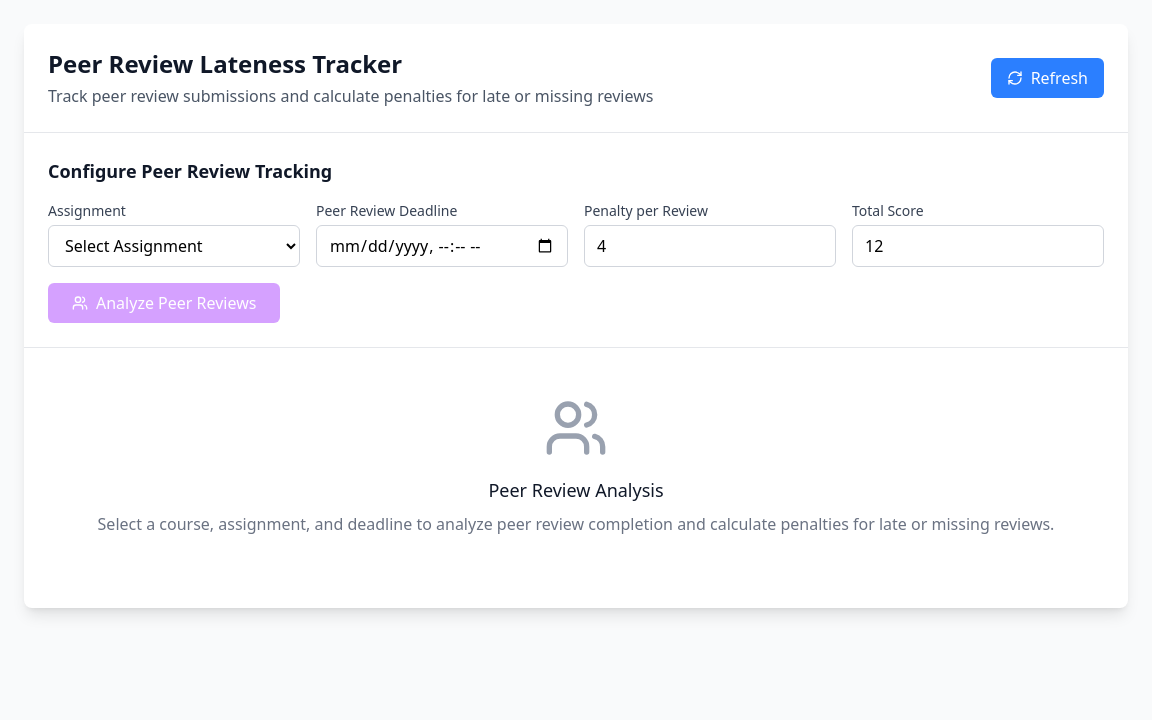
it: PeerReviewTracking › Peer Review Analysis › handles API errors during analysis
Select "Assignment 1" in the dropdown named "Select assignment" at (174, 246), box [48,225,300,267]
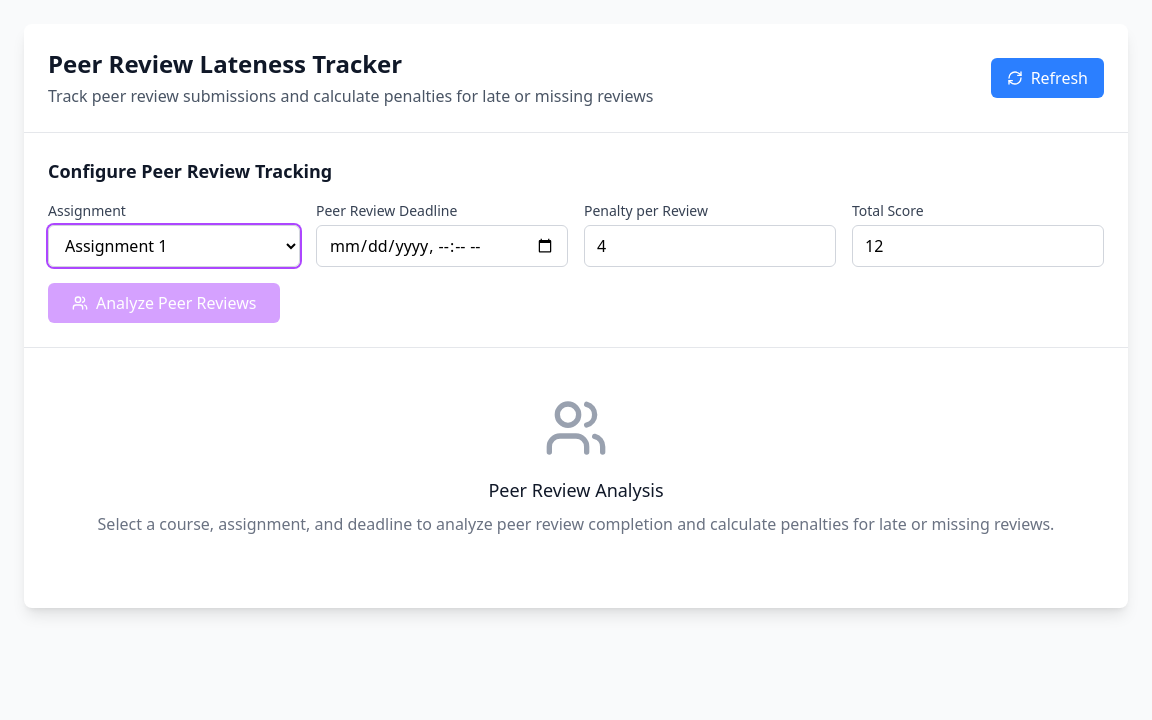
Type "2025-02-01T12:00" into the field named "Select peer review deadline" at (442, 246), box [316,225,568,267]
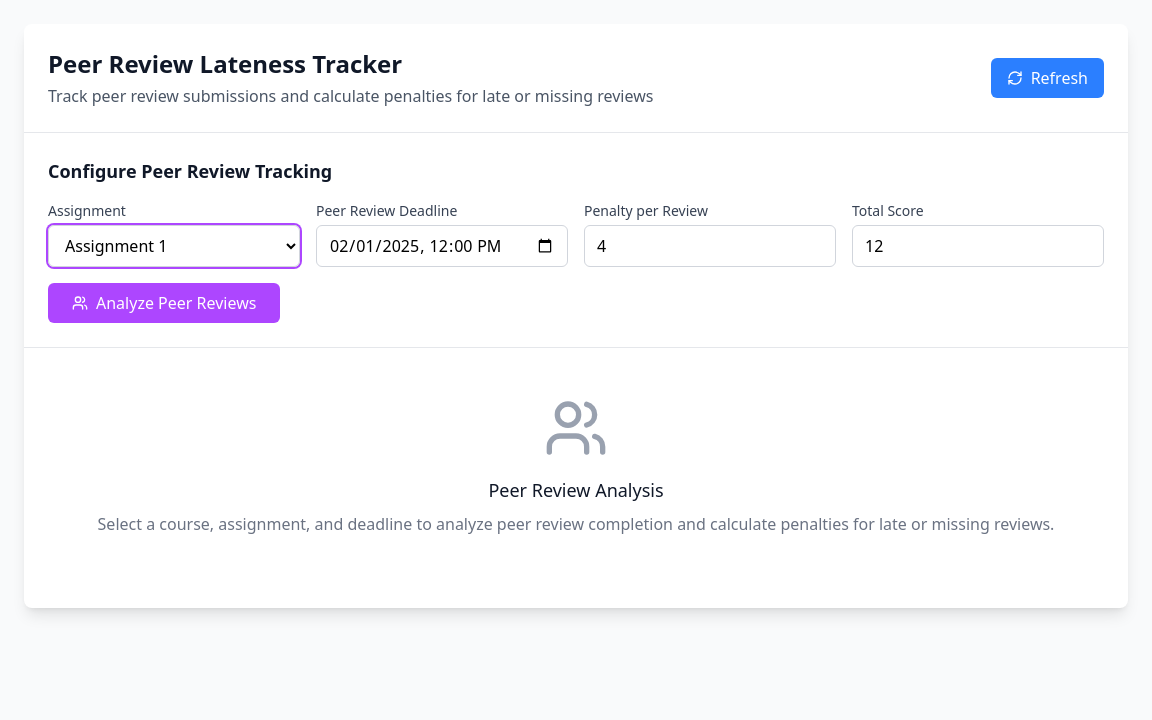
Click the button "Analyze Peer Reviews" at (164, 303), box [48,283,280,323]
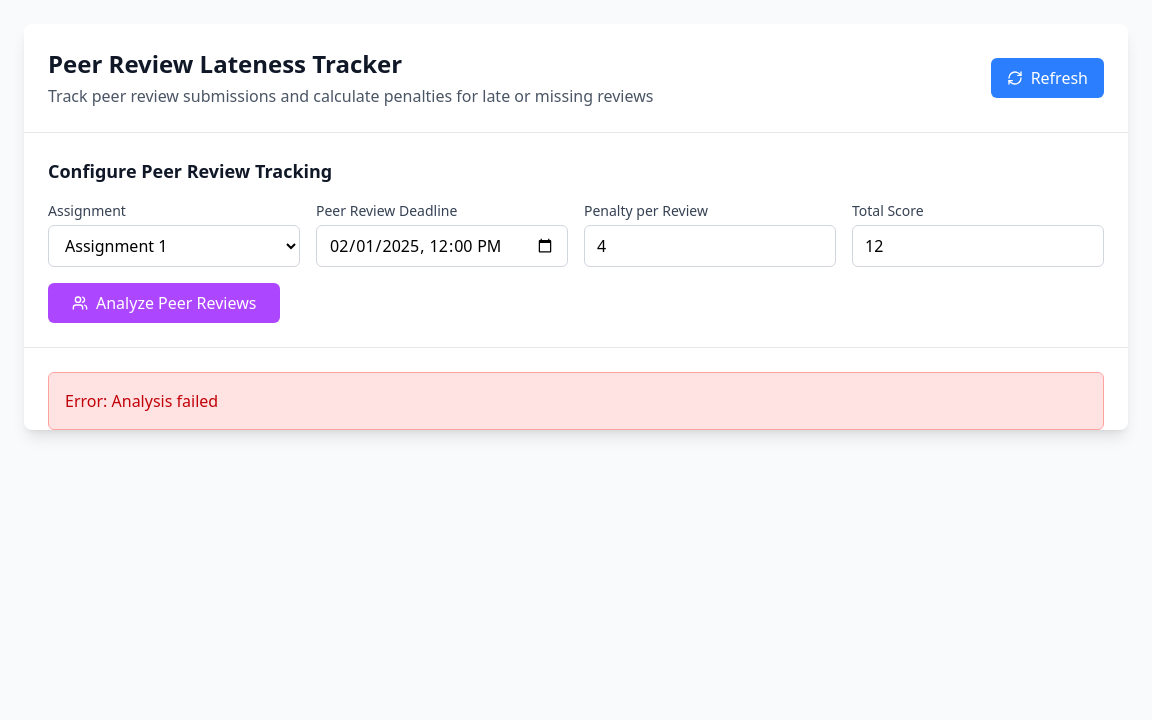
Check: the text "Error: Analysis failed" is shown, box [48,372,1104,430]
